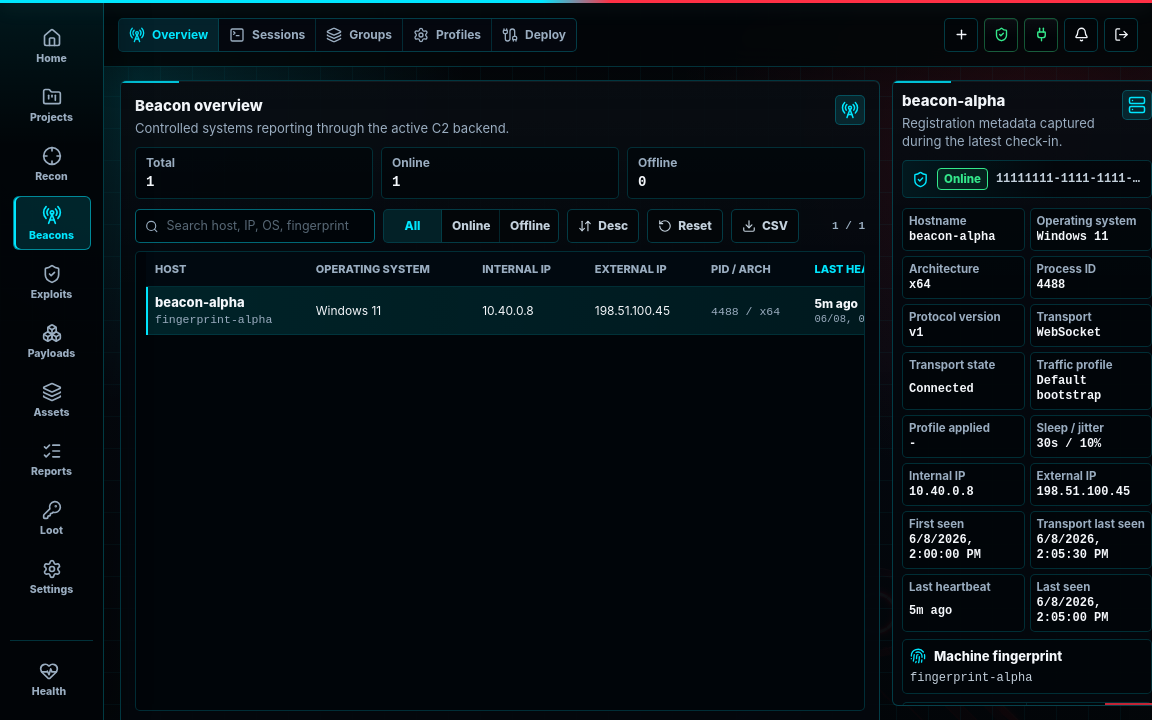
Test: BeaconsPage › opens a file browser session, navigates folders, and previews text files
Double-click the row named "Host beacon-alpha" at (649, 310), box [146,286,1151,334]
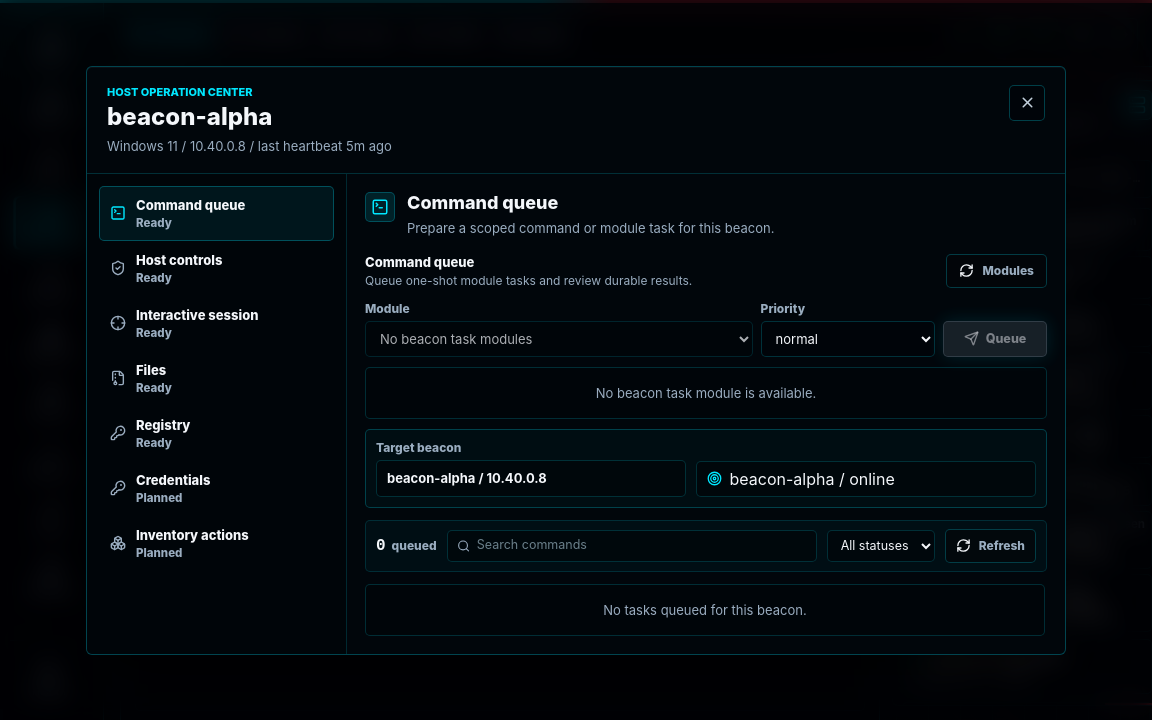
Click the button "Files Ready" at (216, 378), box [99,350,334,406]
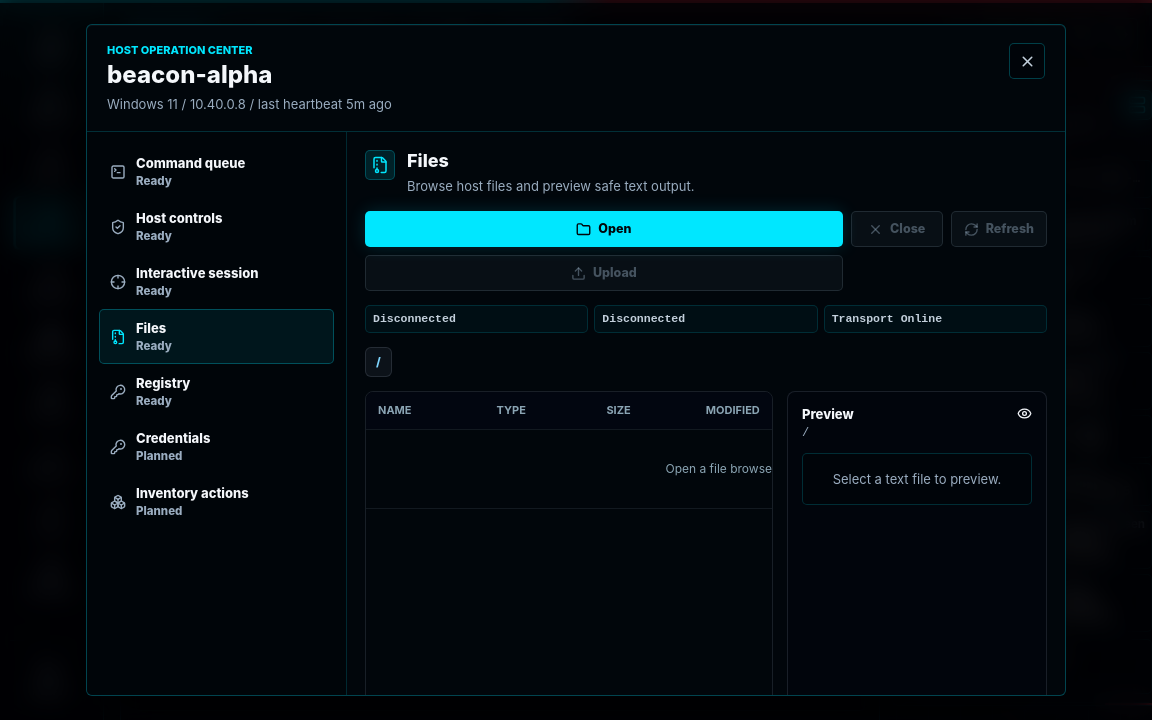
Click the button "Open" at (604, 229), box [365,211,843,247]
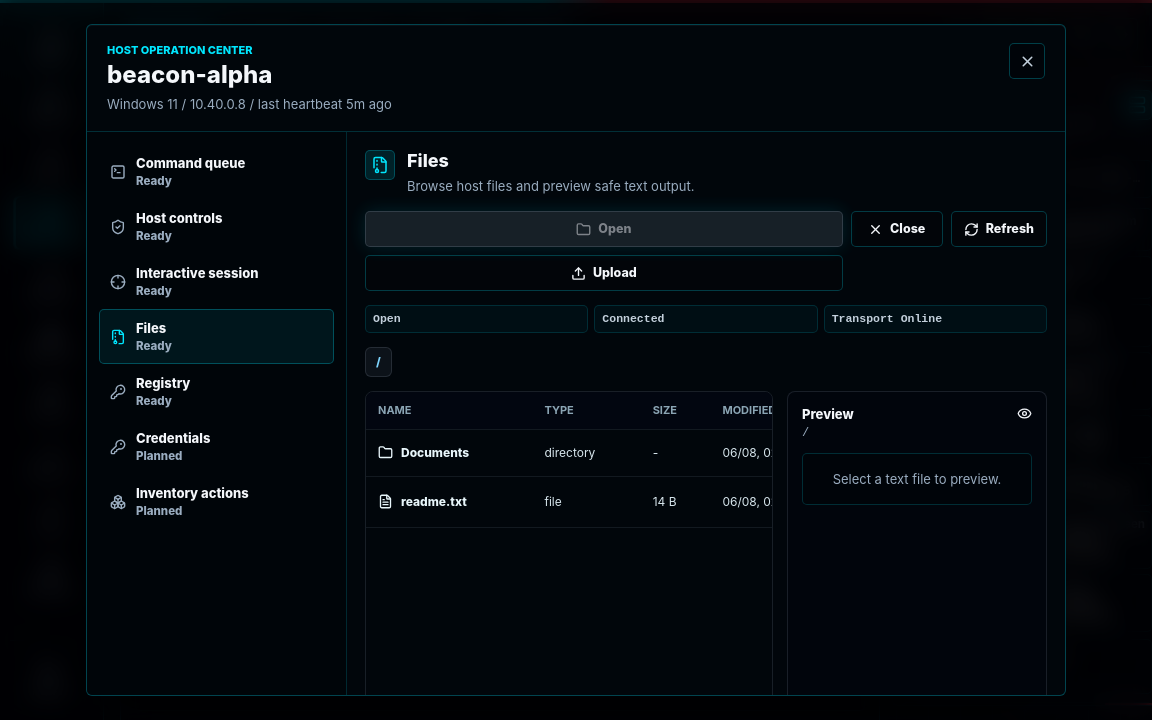
Now the text "Documents" is shown, box [401,444,469,462]
Click the button "Documents" at (424, 452), box [378,440,469,466]
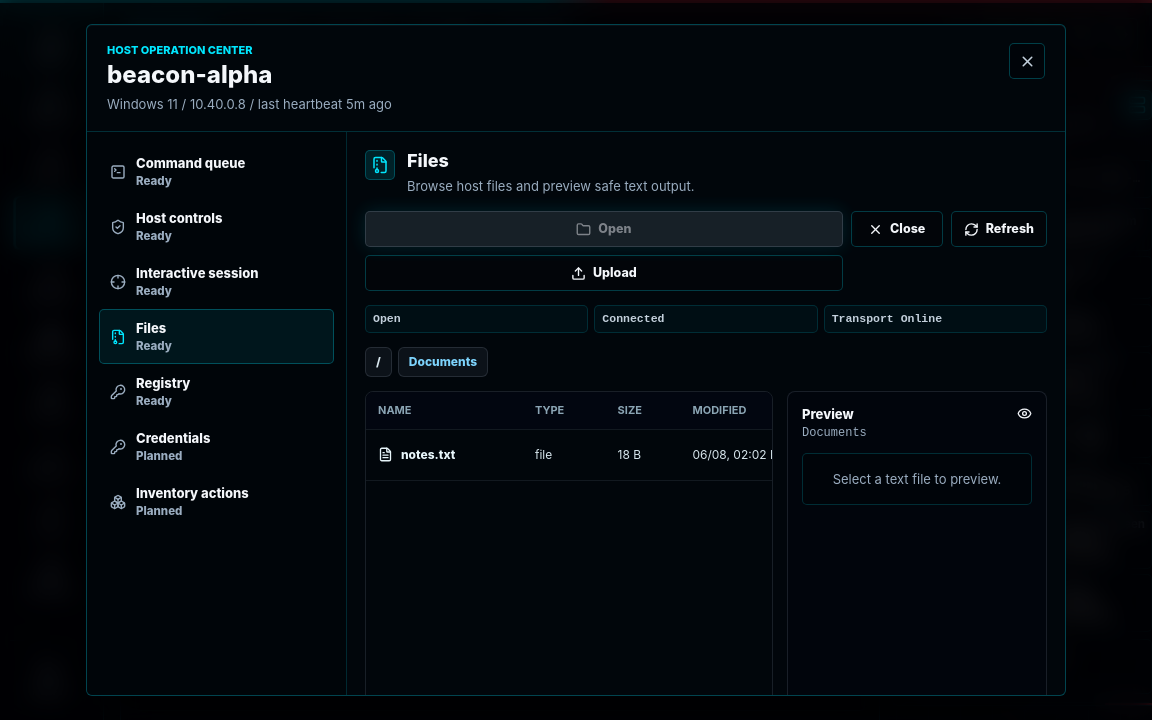
Now the text "notes.txt" is shown, box [401,446,455,464]
Click the button "notes.txt" at (417, 454), box [378,442,455,468]
(page scrolled)
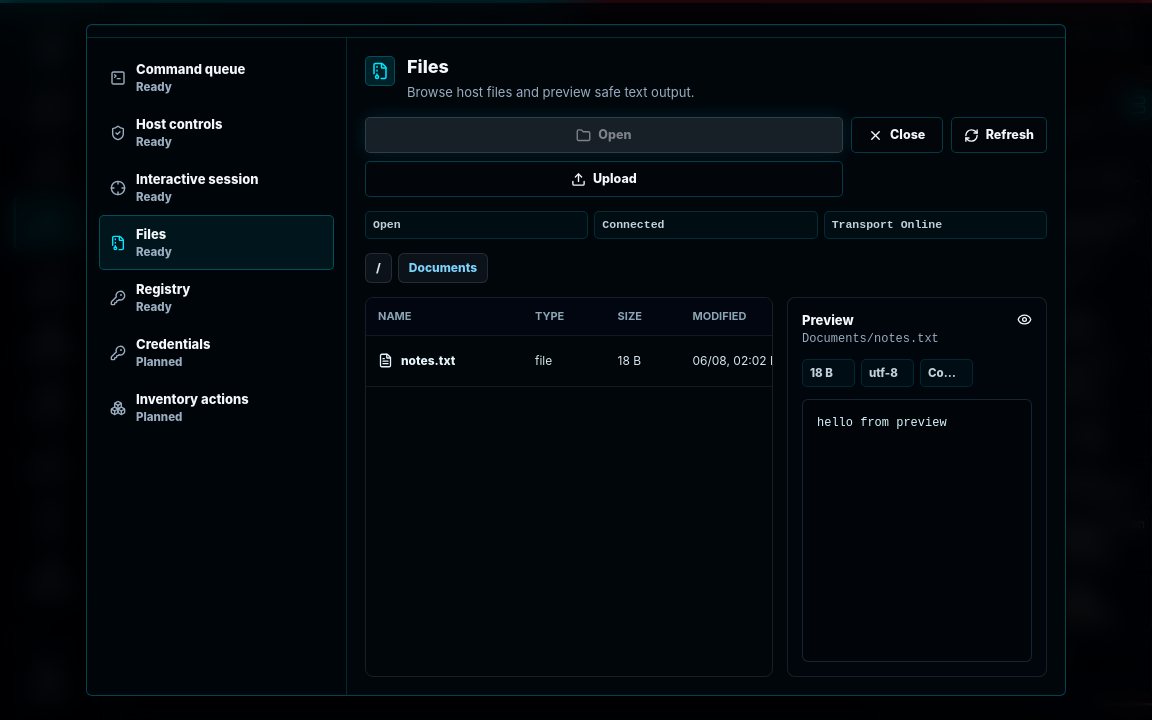
Now the text with test id "file-preview-output" reads "hello from preview", box [817,416,947,430]
